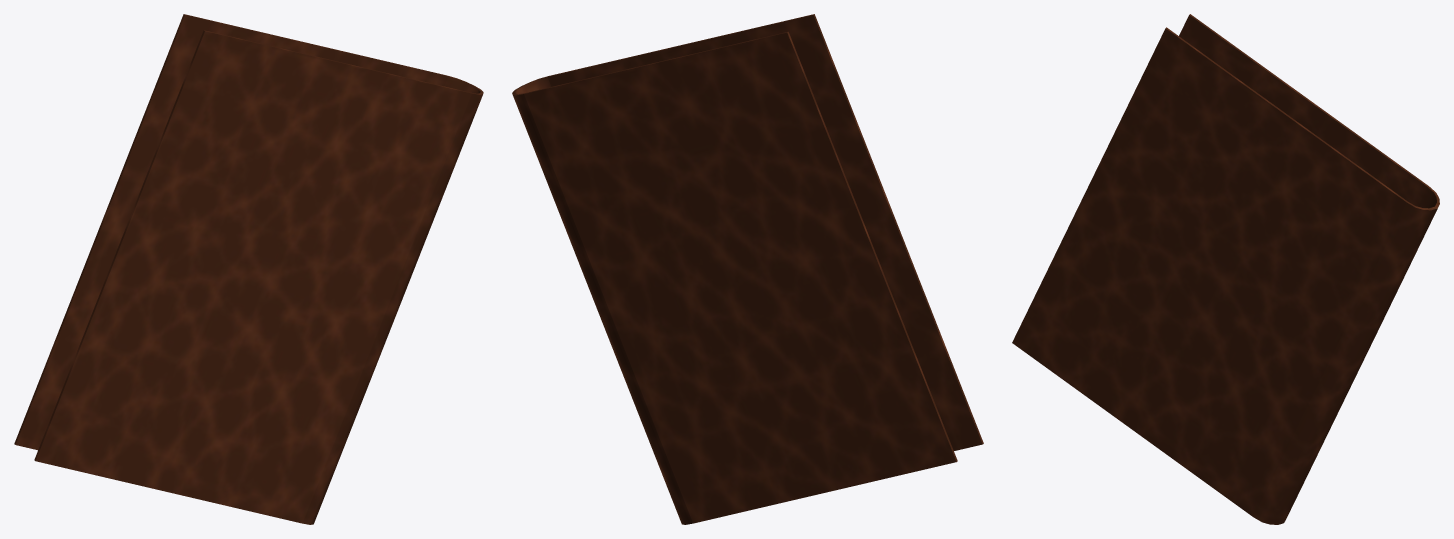
The model's file is cover002.obj.
3 views of the same model, side by side, from view 1: azimuth 30°, elevation 25°; view 2: azimuth 150°, elevation 25°; view 3: azimuth 330°, elevation 25° (orthographic). The views are drawn at different scales.
Size of the model in its own units: 0.0182 by 0.02 by 0.00169.
1 material, 1 textured.
